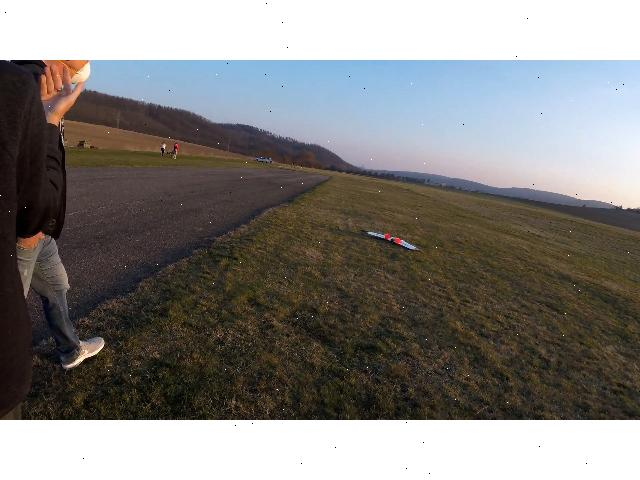Anti-Drone: (358, 218, 422, 264)
